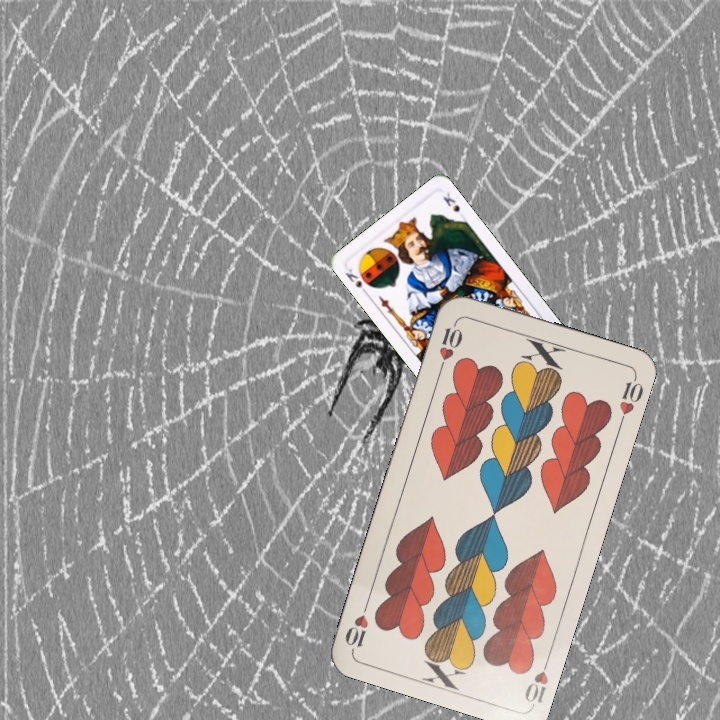H10: (520, 650, 553, 708), (435, 317, 465, 375)
SK: (341, 264, 371, 298)
